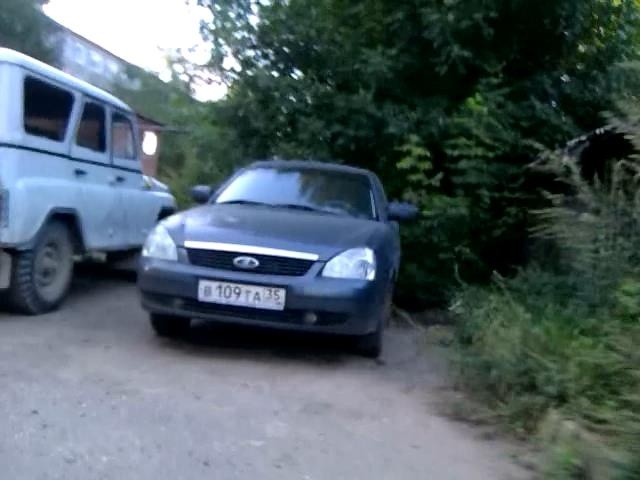car license plate: (196, 277, 288, 316)
